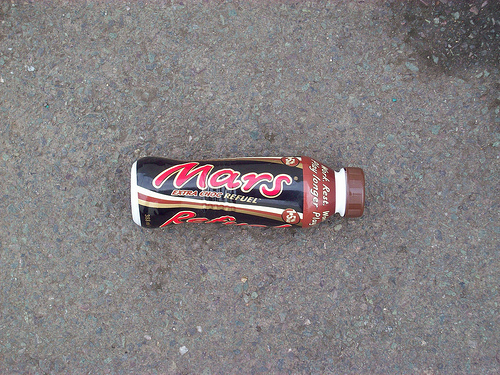litter: (128, 155, 367, 230)
